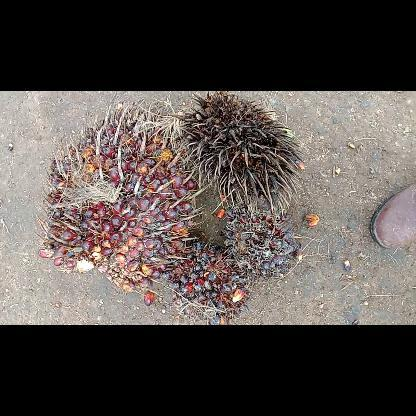Janjang kosong: (168, 92, 310, 216)
TBS abnormal: (164, 240, 250, 324), (220, 202, 304, 283)
TBS masak: (35, 98, 203, 294)
